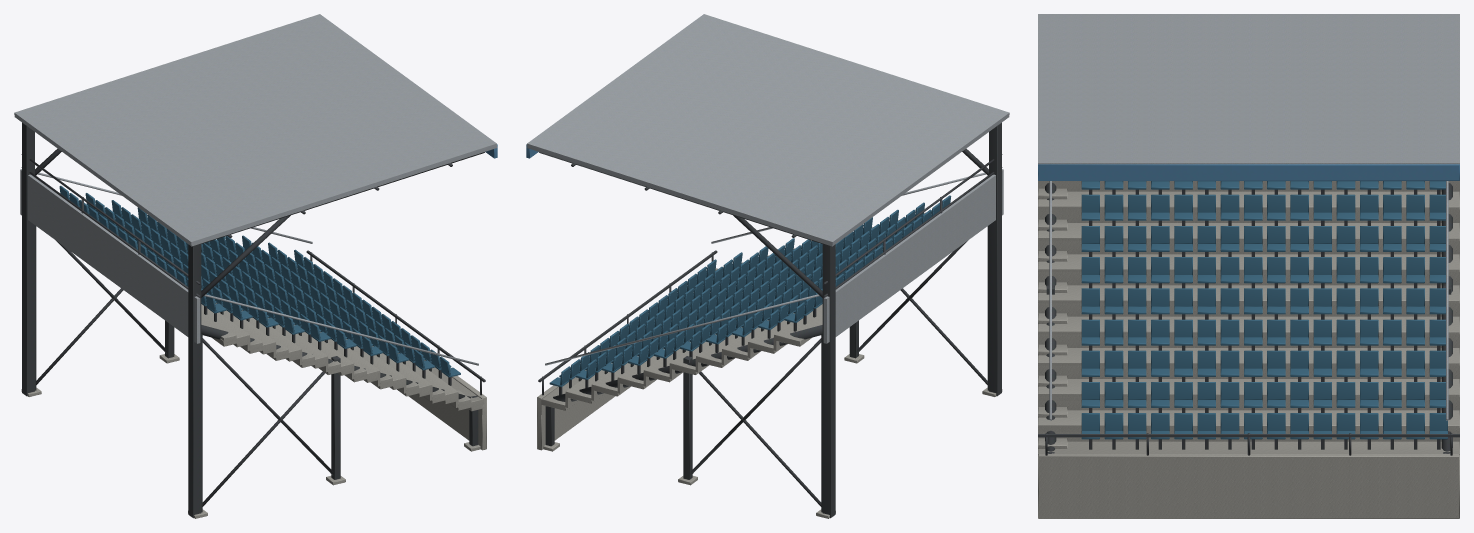
File: grandstand-roof_high.glb
The picture shows the model from 3 angles, left to right: view 1: azimuth 30°, elevation 25°; view 2: azimuth 150°, elevation 25°; view 3: azimuth 270°, elevation 25°; orthographic projection. The views are drawn at different scales.
Visible parts, largest first — view 1: galvanised, seat, dark-steel, concrete; view 2: galvanised, seat, dark-steel, concrete; view 3: concrete, seat, galvanised, dark-steel, paint-band.
Part boxes in pixels (x1=…): galvanised: x1=14, y1=14, x2=497, y2=365; seat: x1=59, y1=185, x2=460, y2=377; dark-steel: x1=21, y1=122, x2=485, y2=518; concrete: x1=21, y1=225, x2=486, y2=518; galvanised: x1=526, y1=14, x2=1009, y2=365; seat: x1=549, y1=195, x2=951, y2=387; dark-steel: x1=538, y1=122, x2=1002, y2=518; concrete: x1=537, y1=212, x2=1002, y2=518; concrete: x1=1038, y1=181, x2=1459, y2=518; seat: x1=1081, y1=181, x2=1447, y2=439; galvanised: x1=1038, y1=14, x2=1459, y2=420; dark-steel: x1=1038, y1=183, x2=1459, y2=455; paint-band: x1=1038, y1=164, x2=1459, y2=180.
Bounding box in the file's own units: 10 × 9.46 × 10.
Materials: 5 (4 with a texture image).
